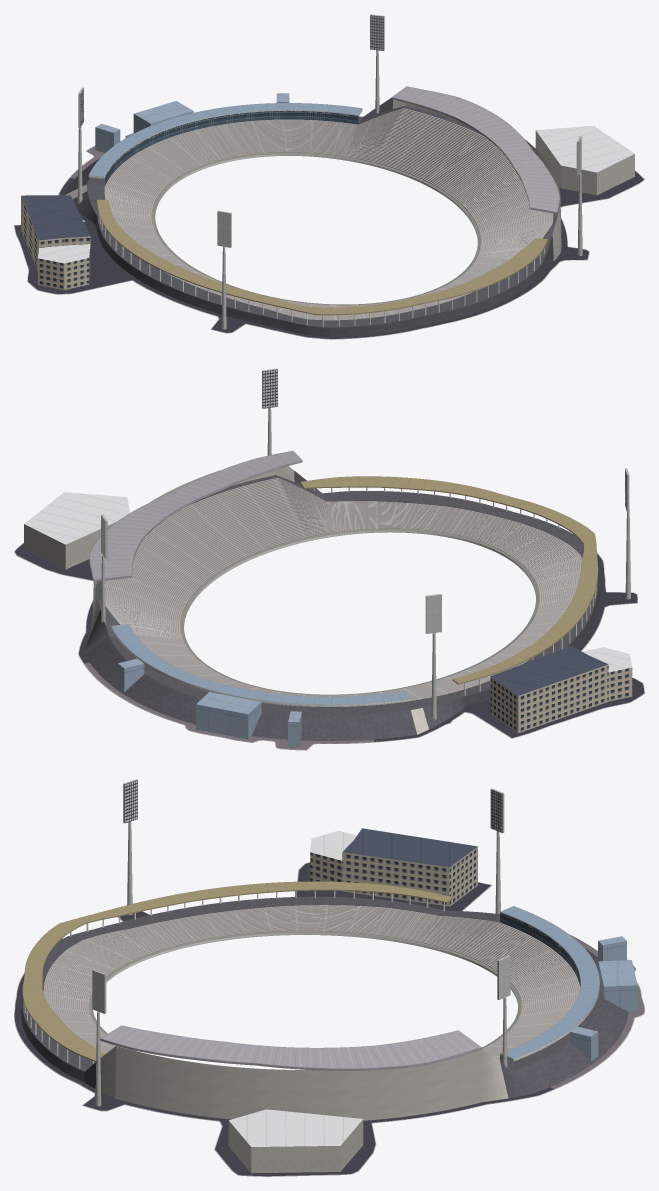
File: A_football_park.glb
3 views of the same model, one above another, from view 1: azimuth 30°, elevation 25°; view 2: azimuth 150°, elevation 25°; view 3: azimuth 270°, elevation 25° (orthographic). The views are drawn at different scales.
Visible parts, largest first — view 1: seat_lb, seat_navy, riser, riser_navy, deck, conc, embank, tan, west_roof, white, west_back, box_roof (+10 smaller); view 2: seat_lb, seat_navy, riser_navy, embank, deck, tan, west_roof, riser, admin, white, conc, box (+9 smaller); view 3: west_back, seat_lb, riser, west_roof, tan, deck, conc, admin, embank, white, box_roof, box (+9 smaller).
Boxes of the visible parts, x1,y1,x2,y2 form: seat_lb: (104,113,542,320); seat_navy: (364,108,553,250); riser: (106,113,388,203); riser_navy: (364,109,543,244); deck: (86,98,558,327); conc: (14,123,643,338); embank: (64,125,553,336); tan: (97,199,547,315); west_roof: (391,86,559,214); white: (38,125,634,263); west_back: (65,99,634,261); box_roof: (89,103,362,176); seat_lb: (109,487,581,700); seat_navy: (105,478,319,629); riser_navy: (105,478,319,624); embank: (84,492,599,740); deck: (95,471,598,715); tan: (300,476,598,684); west_roof: (89,451,302,581); riser: (160,488,578,629); admin: (490,664,632,733); white: (24,492,632,672); conc: (15,506,644,741); box: (117,658,301,746); west_back: (100,1046,508,1173); seat_lb: (43,905,579,1062); riser: (53,906,576,1000); west_roof: (100,1025,482,1070); tan: (22,881,453,1061); deck: (22,896,602,1071); conc: (14,862,553,1176); admin: (310,846,477,906); embank: (21,948,628,1098); white: (229,830,362,1146); box_roof: (500,906,599,1058); box: (570,936,637,1060).
Bounding box in the file's own units: 314 × 61.05 × 263.
Materials: 24 (24 with a texture image).
